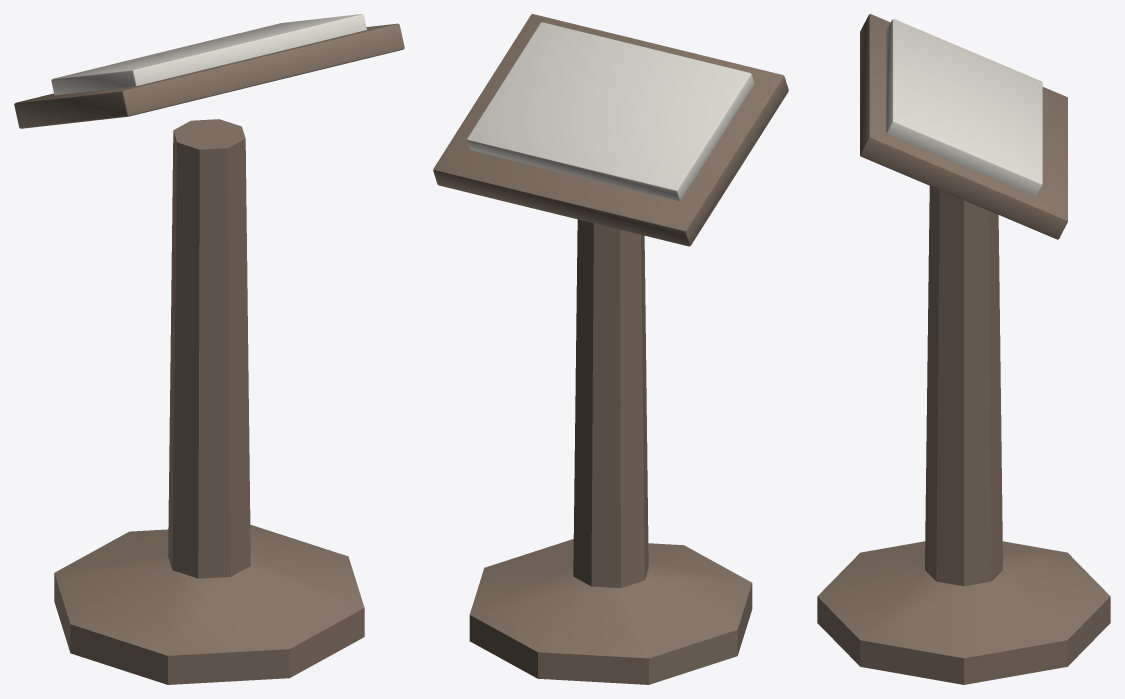
File: lectern.gltf
The picture shows the model from 3 angles, left to right: view 1: azimuth 30°, elevation 25°; view 2: azimuth 150°, elevation 25°; view 3: azimuth 270°, elevation 25°; orthographic projection. The views are drawn at different scales.
Parts seen in each view (by area): view 1: Body; view 2: Body; view 3: Body.
Boxes of the visible parts, left/top/right/bottom form: Body: left=14, top=14, right=404, bottom=684; Body: left=433, top=14, right=788, bottom=684; Body: left=817, top=14, right=1110, bottom=684.
Size of the model in its own units: 0.6 by 1.25 by 0.6.
